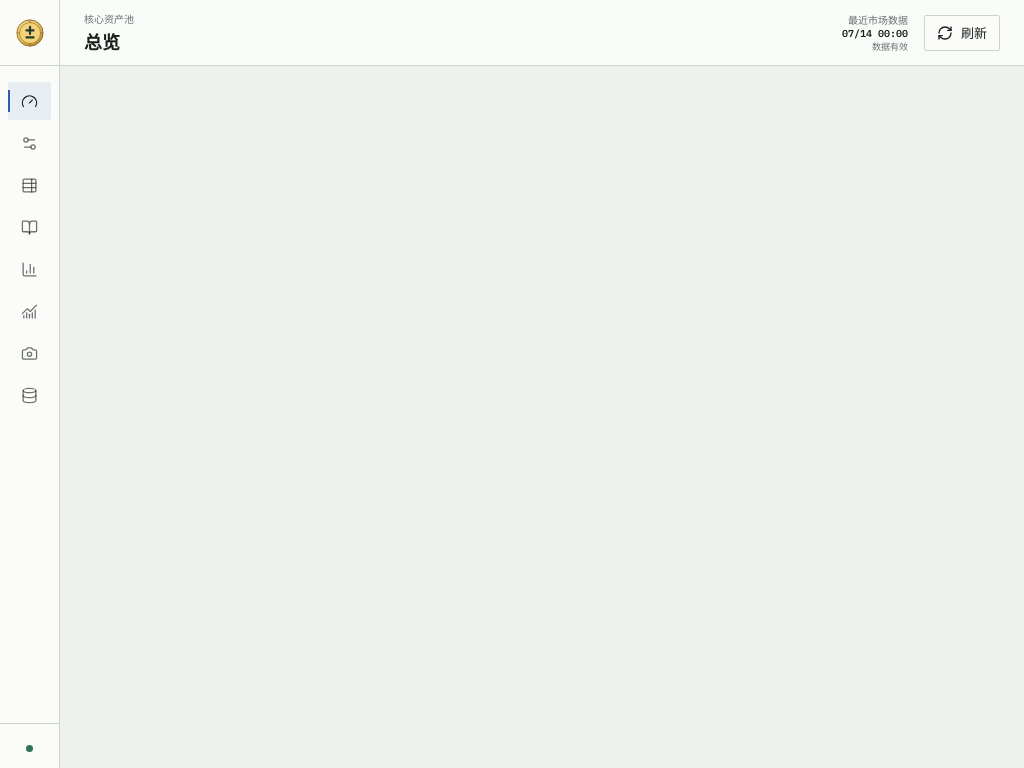
Test case: AppShell › links to data sources when refresh fails without discarding cached status
Click the button "刷新".
click(962, 32)  # box top-left (924, 14), bottom-right (1000, 50)
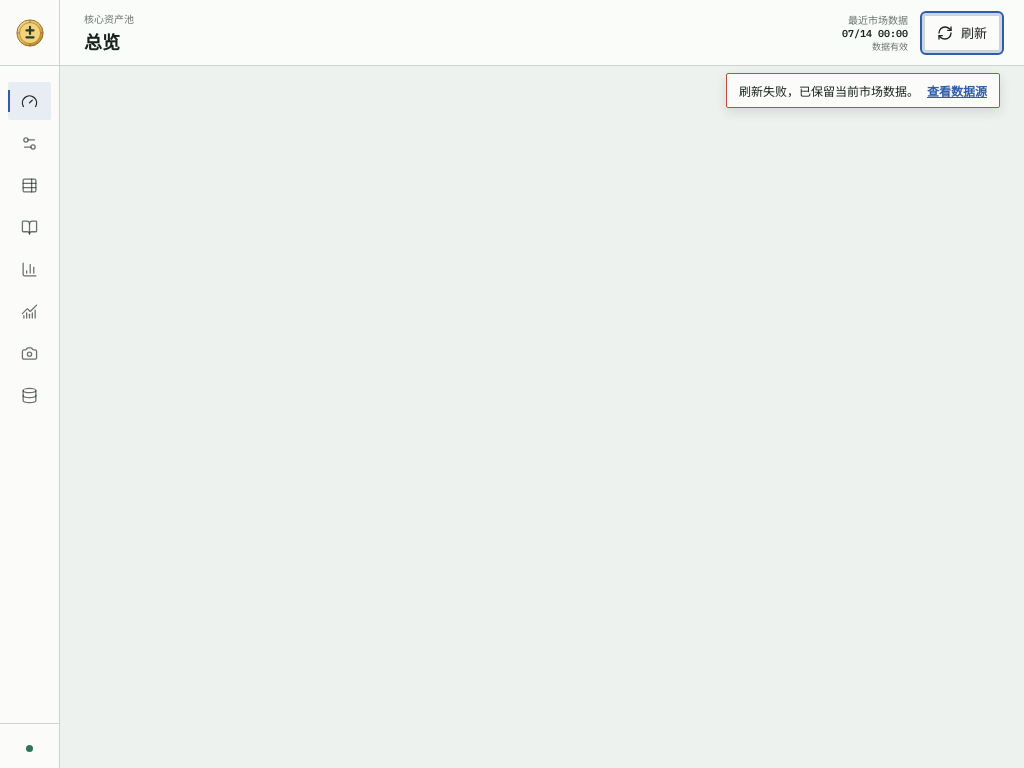
Expected: the text "数据有效" is shown, top-left (872, 40), bottom-right (908, 53)
Expected: the message "刷新失败，已保留当前市场数据。 查看数据源" is shown, top-left (726, 73), bottom-right (1000, 108)
